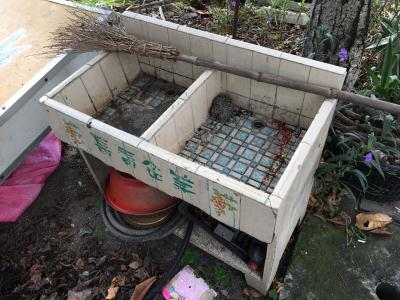bowl: (99, 167, 186, 217)
